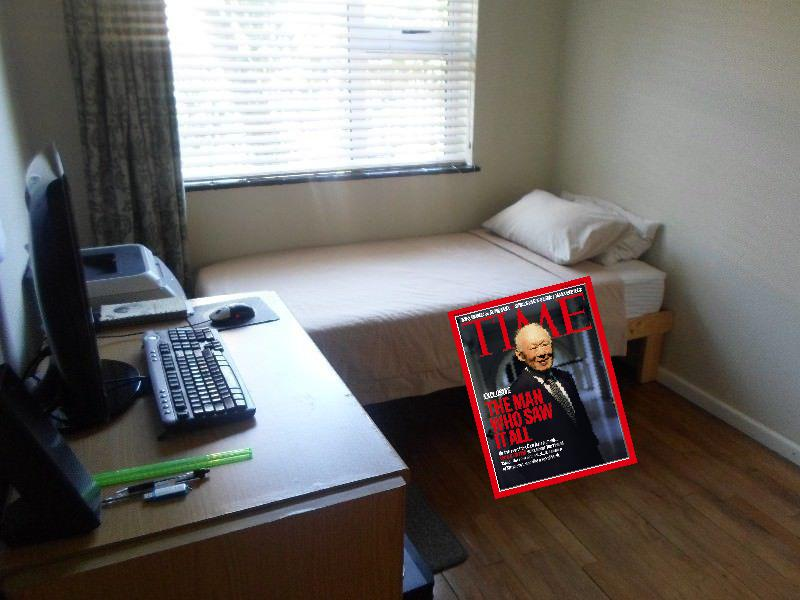times: (446, 274, 640, 504)
